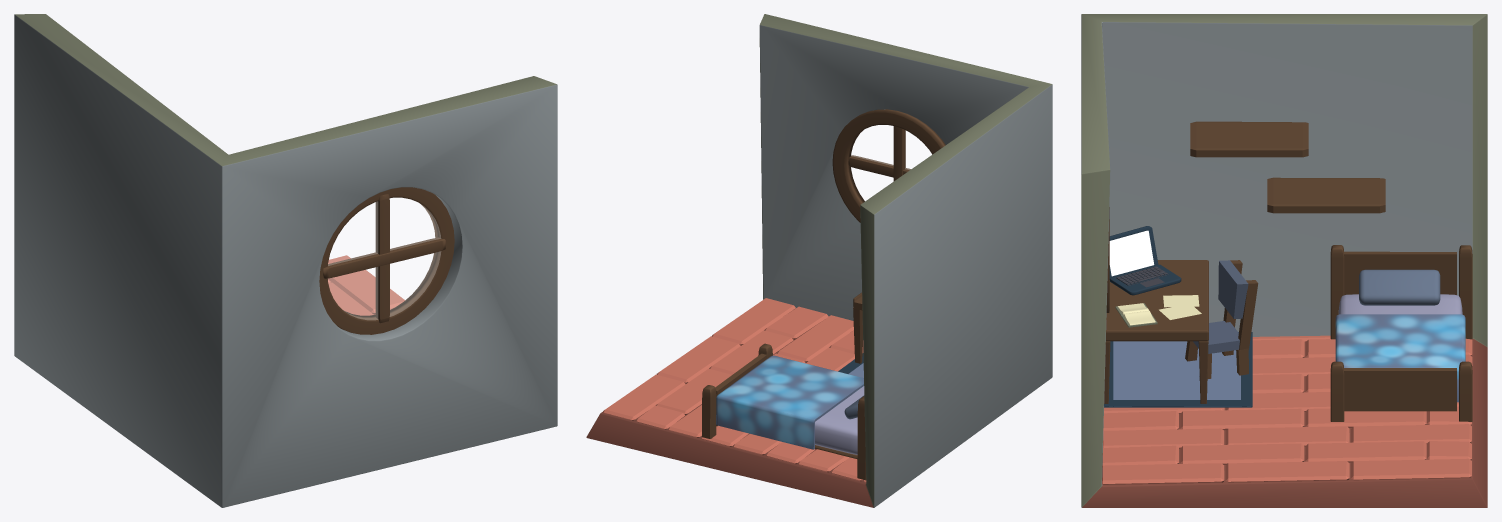
Rendered from House.glb.
The picture shows the model from 3 angles, left to right: view 1: azimuth 30°, elevation 25°; view 2: azimuth 150°, elevation 25°; view 3: azimuth 270°, elevation 25°; orthographic projection. The views are drawn at different scales.
Parts seen in each view (by area): view 1: Walls, Cylinder.001, Window Frame, Cube.011, Cube.010, Cube.009; view 2: Walls, Cube.011, Matress Cover, Window Frame, Cylinder.001, Matress, BedFootBottomRight, BedHeadRight, Cube.009, Cube.010; view 3: Walls, Cube.011, Rug, Matress Cover, Table, Bed Foot Post, Shelf upper, Shelf, Pillow, Bed Head Post, Matress, Plane.005 (+10 smaller).
Part boxes in pixels (box(x1,y1,x2,y2)): Walls: box(14, 14, 557, 507); Cylinder.001: box(328, 198, 440, 319); Window Frame: box(319, 187, 454, 334); Cube.011: box(328, 255, 404, 315); Cube.010: box(323, 237, 445, 278); Cube.009: box(375, 194, 389, 323); Walls: box(586, 14, 1052, 507); Cube.011: box(603, 298, 866, 482); Matress Cover: box(716, 355, 863, 449); Window Frame: box(832, 109, 945, 222); Cylinder.001: box(851, 125, 931, 200); Matress: box(815, 386, 864, 454); BedFootBottomRight: box(702, 385, 716, 438); BedHeadRight: box(857, 396, 866, 480); Cube.009: box(893, 126, 905, 181); Cube.010: box(848, 155, 910, 177); Walls: box(1081, 14, 1487, 507); Cube.011: box(1102, 335, 1472, 484); Rug: box(1104, 332, 1252, 407); Matress Cover: box(1335, 314, 1465, 402); Table: box(1106, 260, 1208, 341); Bed Foot Post: box(1344, 368, 1456, 411); Shelf upper: box(1190, 121, 1308, 157); Shelf: box(1267, 177, 1385, 213); Pillow: box(1359, 269, 1440, 305); Bed Head Post: box(1344, 251, 1456, 294); Matress: box(1338, 294, 1462, 314); Plane.005: box(1109, 230, 1154, 276).
Bounding box in the file's own units: 2.05 × 2 × 2.2.
17 materials, 1 textured.
